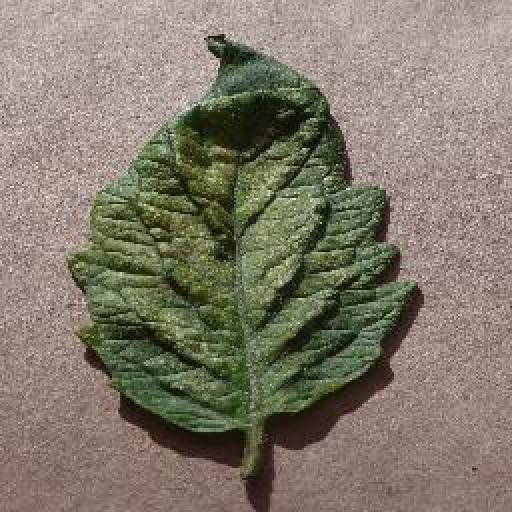Spider Mites: (68, 32, 417, 437)
